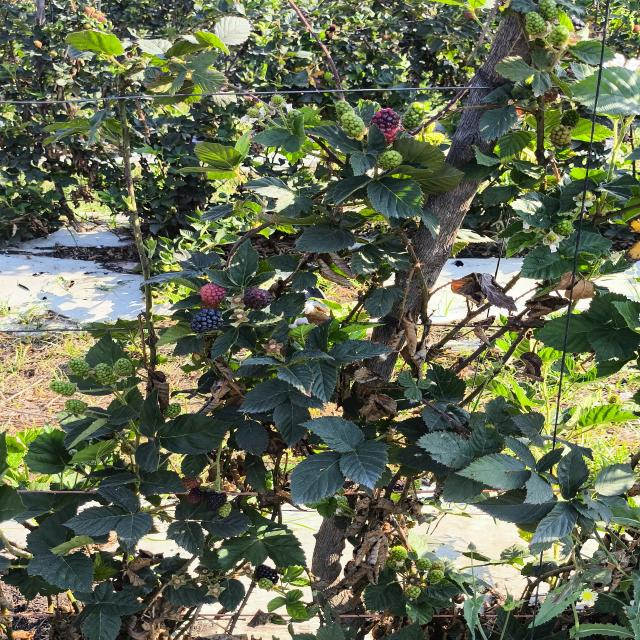maduro: (190, 309, 223, 334), (254, 564, 278, 584), (206, 492, 227, 511)
marron: (370, 108, 400, 143), (200, 283, 226, 308), (243, 288, 272, 309), (187, 488, 207, 503), (182, 477, 201, 490)
verde: (341, 111, 367, 139), (402, 102, 426, 130), (93, 363, 116, 385), (378, 150, 402, 169), (50, 380, 76, 396), (113, 358, 134, 377), (68, 358, 90, 376), (65, 399, 87, 415), (335, 100, 353, 119), (391, 545, 408, 560), (427, 569, 444, 584), (166, 403, 181, 419), (415, 558, 431, 571), (405, 586, 421, 599), (218, 502, 231, 517), (257, 578, 273, 590), (430, 560, 445, 571)
